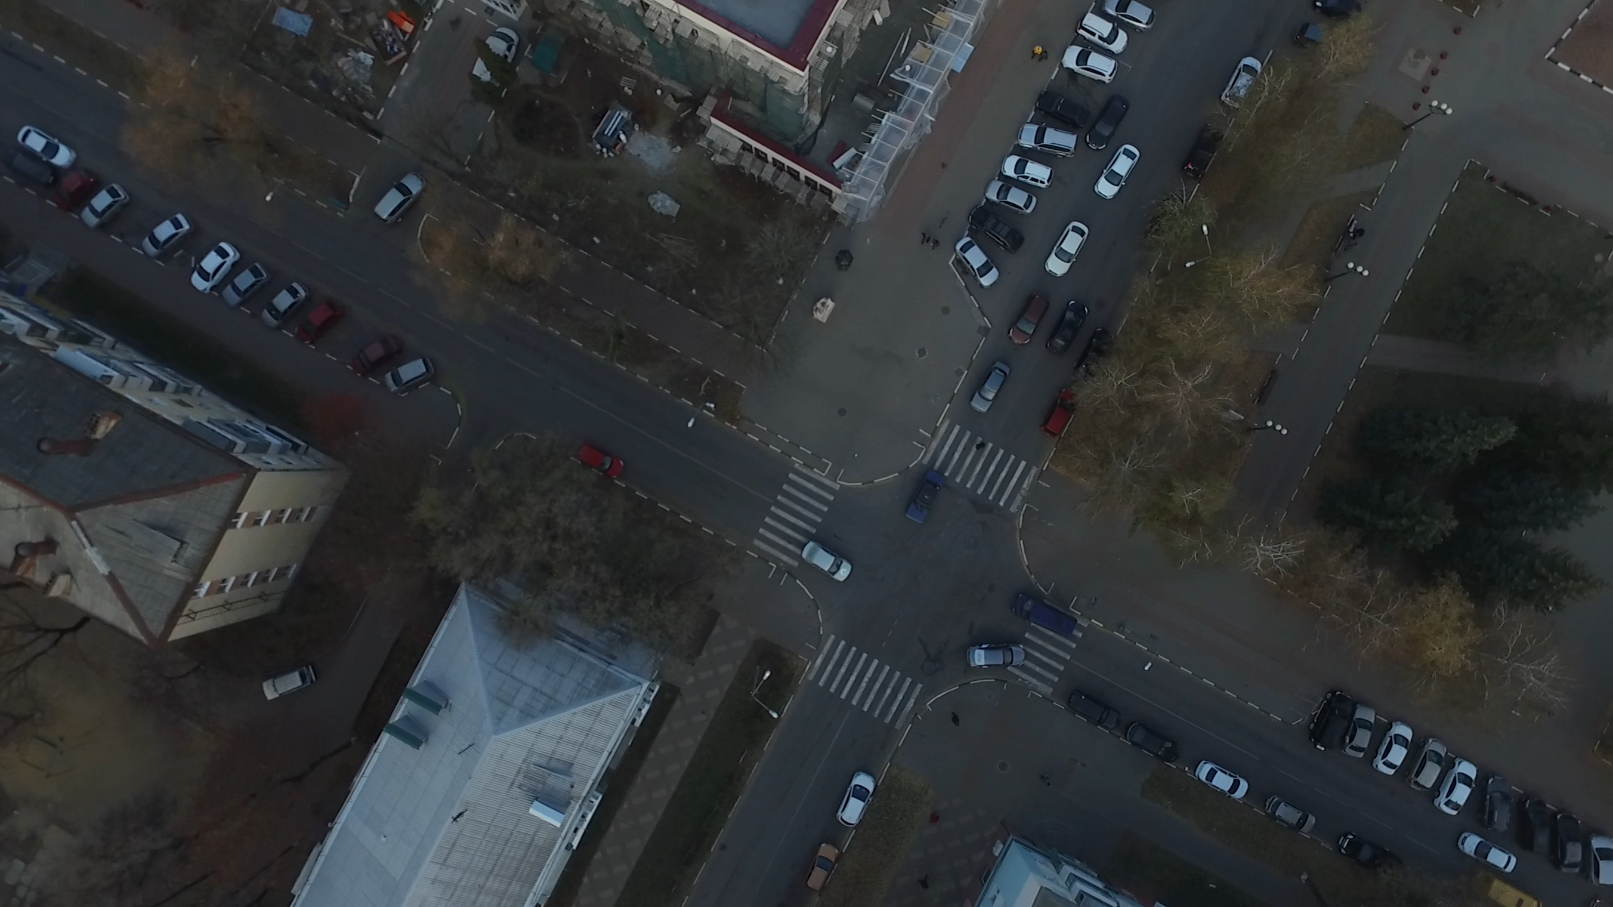car: (465, 25, 524, 86), (366, 174, 427, 228), (1011, 592, 1079, 641), (1337, 829, 1407, 875), (14, 125, 81, 171), (1007, 291, 1059, 349), (1180, 120, 1227, 182), (1079, 94, 1131, 150), (188, 239, 242, 292), (1041, 298, 1093, 352), (966, 204, 1021, 255), (1042, 221, 1093, 277), (1309, 692, 1358, 750), (1095, 143, 1142, 202), (835, 767, 879, 832), (1220, 54, 1266, 111), (1434, 757, 1478, 815), (1124, 718, 1179, 764), (136, 212, 193, 256), (1017, 118, 1077, 159), (970, 363, 1016, 416), (953, 235, 998, 288), (1034, 87, 1089, 131), (220, 262, 273, 308), (1062, 47, 1123, 85), (1192, 759, 1250, 800), (1457, 833, 1516, 873), (1369, 724, 1414, 776), (260, 281, 310, 327), (902, 472, 946, 523), (349, 334, 405, 374), (1077, 13, 1130, 55), (1262, 796, 1317, 836), (574, 441, 625, 484), (803, 540, 855, 583), (289, 301, 342, 342), (1000, 153, 1058, 190), (381, 355, 435, 395), (1344, 701, 1380, 760), (1068, 689, 1119, 731), (81, 184, 129, 227), (988, 181, 1039, 220), (261, 664, 317, 701), (1070, 328, 1113, 374), (1040, 385, 1078, 439), (1410, 740, 1447, 794), (802, 844, 842, 891), (1480, 774, 1509, 839), (52, 167, 99, 207), (1475, 883, 1549, 907), (1555, 810, 1584, 872), (1102, 1, 1155, 34), (1520, 795, 1548, 855), (966, 645, 1023, 670), (1589, 836, 1613, 887), (1294, 22, 1331, 50)
